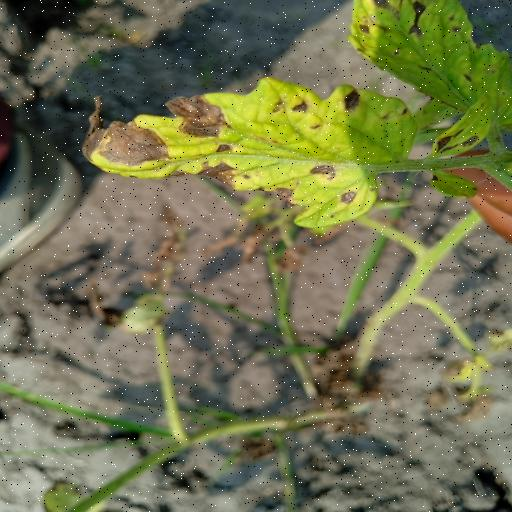Tomato_Brown_Spots: (76, 75, 426, 232), (352, 0, 512, 136)
